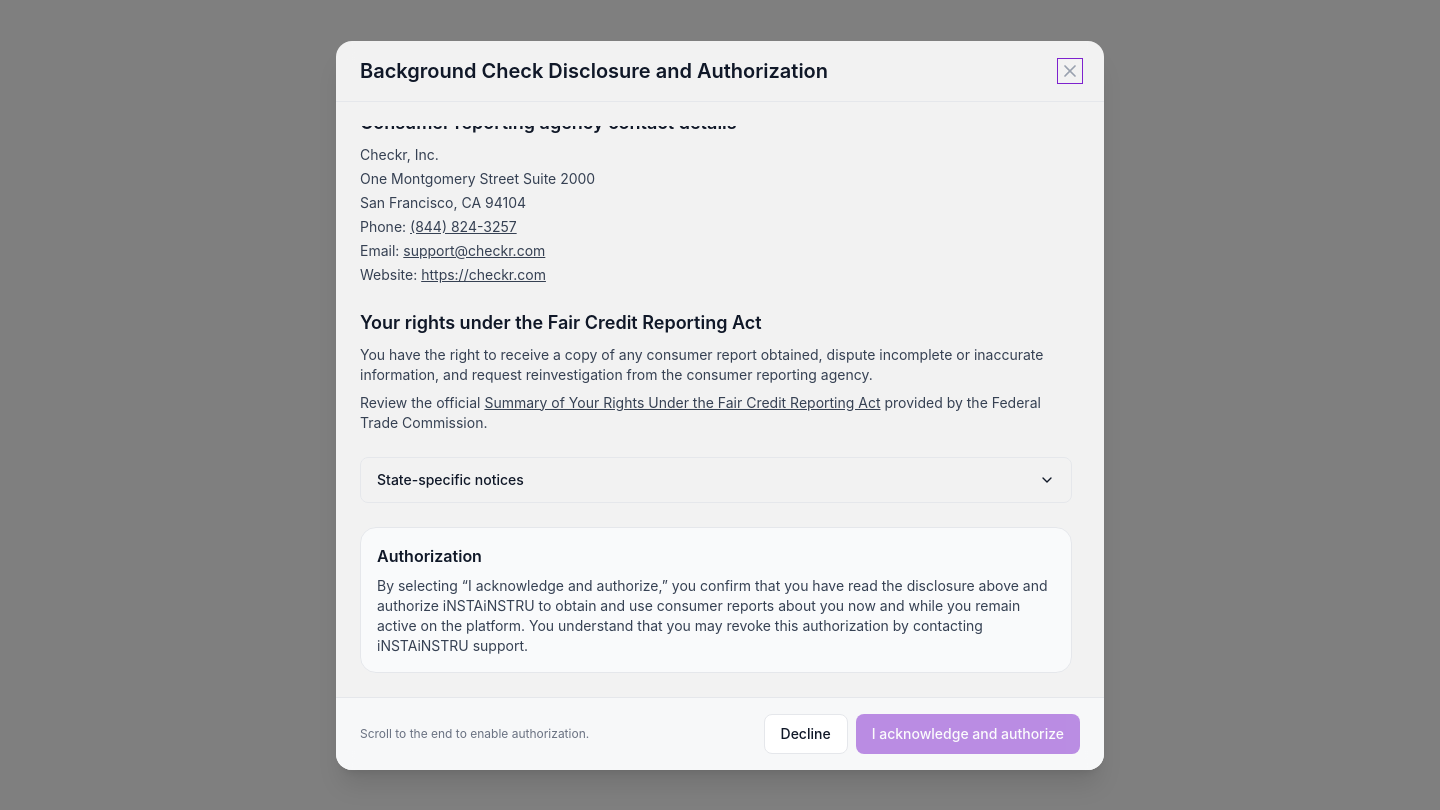
Test case: BackgroundCheckDisclosureModal › modal close and state reset › resets states expanded when modal closes
This screenshot has width=1440, height=810.
(page scrolled)
Expand state notices
What coordinates should you click on to do the following:
click the button "State-specific notices"
I would click on:
 (450, 479)
Its box is [360,456,1072,502].
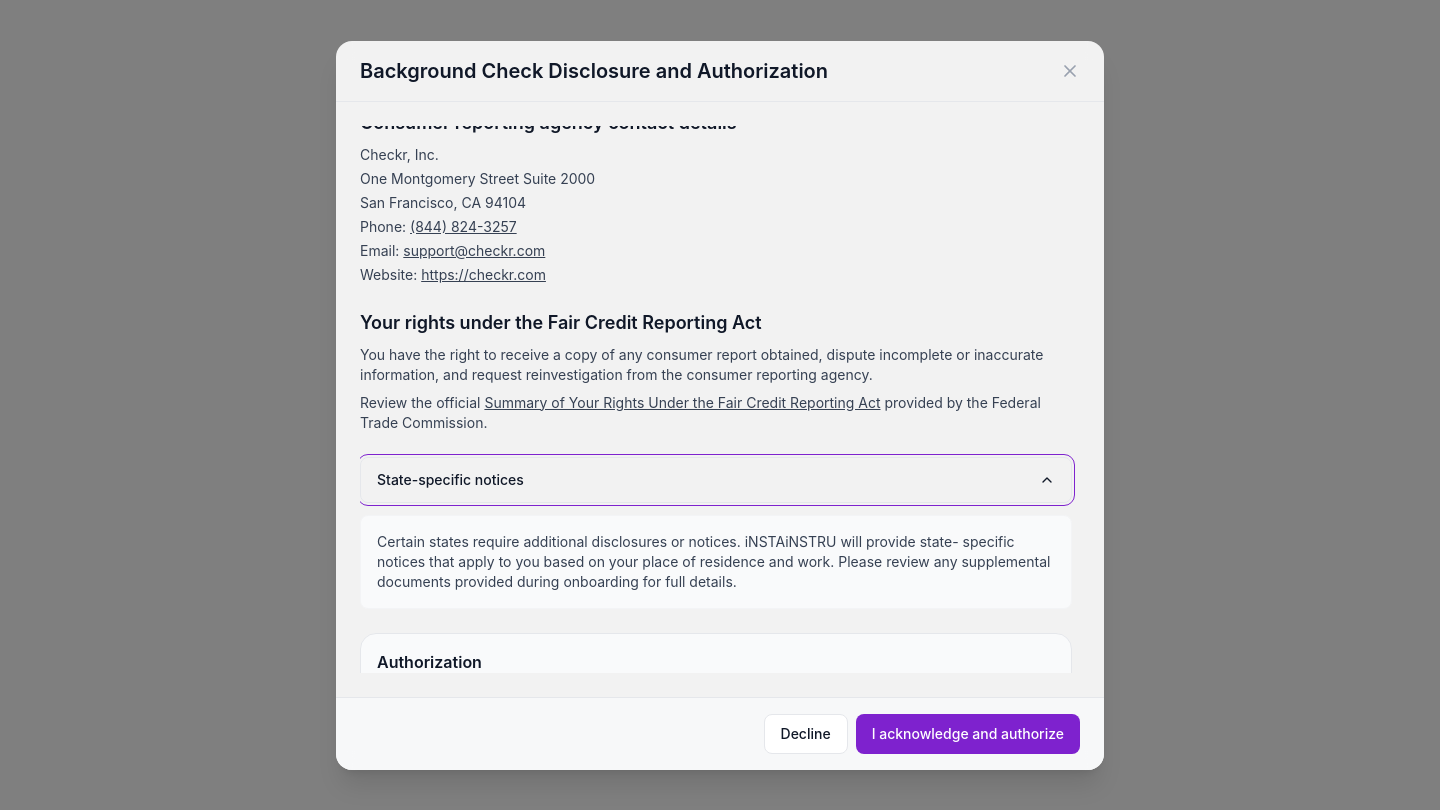
Expected: the text "Certain states require additional disclosures" is shown, [377,532,1050,590]
